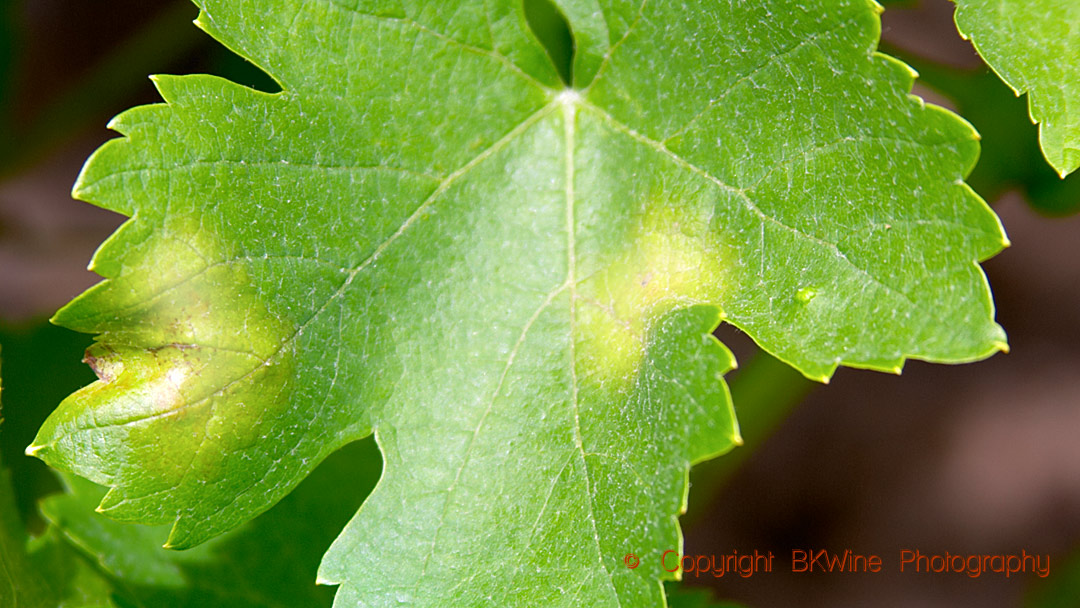downy: (86, 218, 289, 470), (572, 193, 727, 397)
